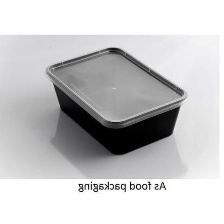plastic_box: (41, 40, 195, 158)
